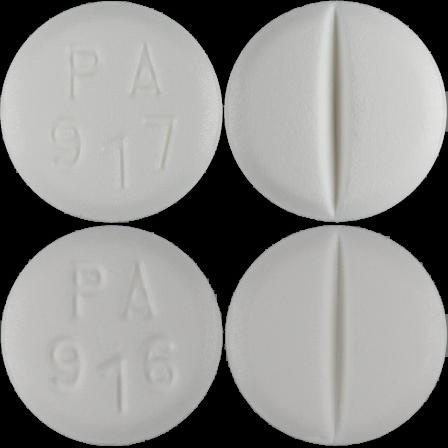55154-5766: (0, 0, 224, 224)
